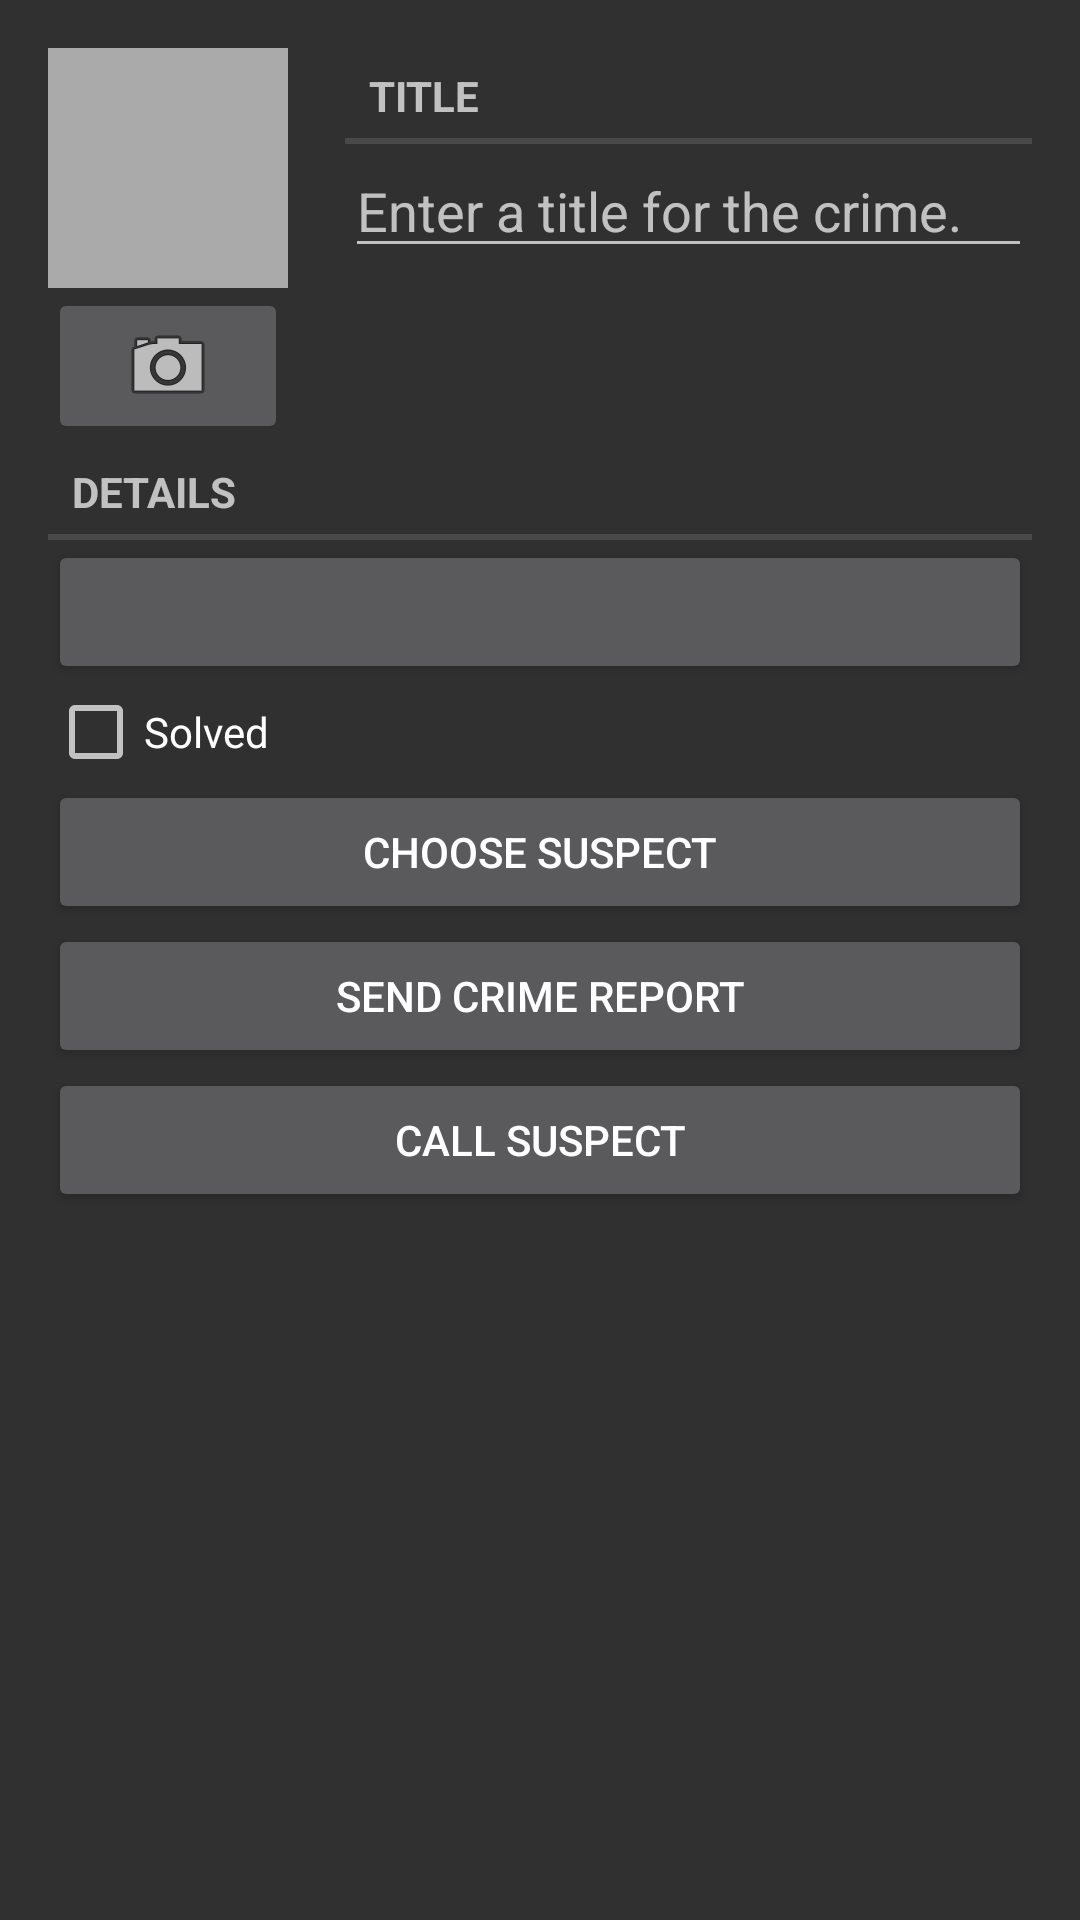

Screen size 1080*1920. Icon name, then its center in pixels as point (x, y):
Take photo of crime scene: point (168, 366)
